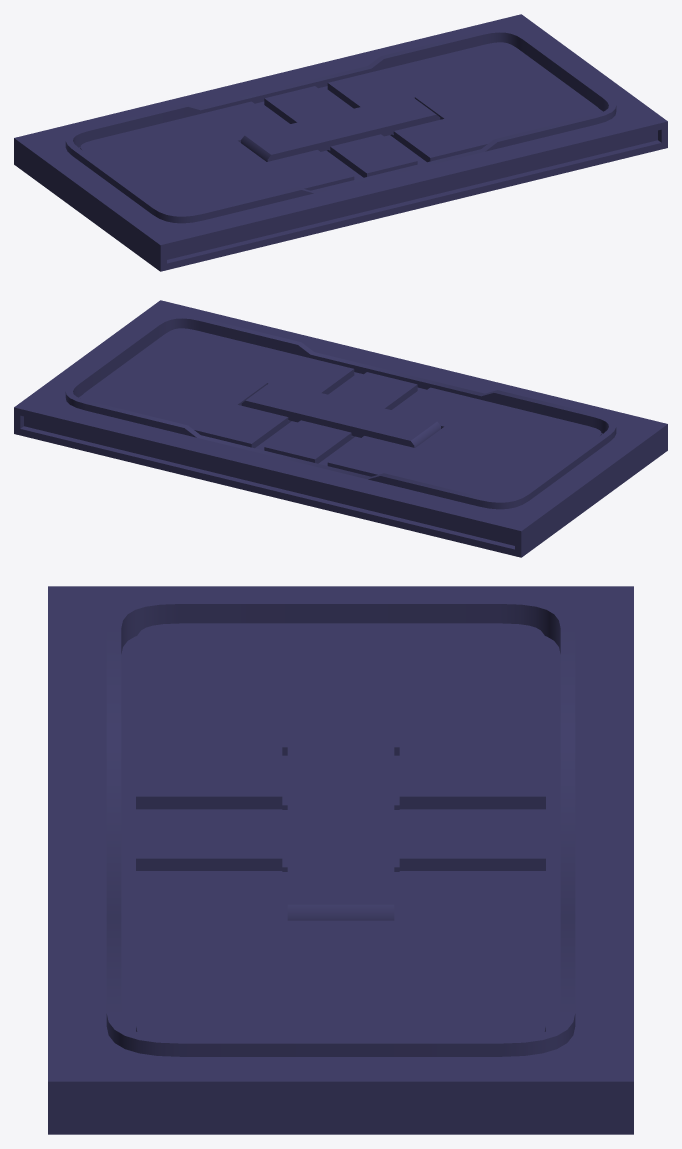
File: Bridge_A_4x2m.FBX
3 views of the same model, one above another, from view 1: azimuth 30°, elevation 25°; view 2: azimuth 150°, elevation 25°; view 3: azimuth 270°, elevation 25° (orthographic). The views are drawn at different scales.
Parts seen in each view (by area): view 1: Bridge_A_4x2m; view 2: Bridge_A_4x2m; view 3: Bridge_A_4x2m.
Part boxes in pixels (x1,y1,x2,y2): Bridge_A_4x2m: [14, 14, 667, 271]; Bridge_A_4x2m: [14, 300, 667, 557]; Bridge_A_4x2m: [48, 586, 633, 1134].
Size of the model in its own units: 400 by 33.37 by 200.
